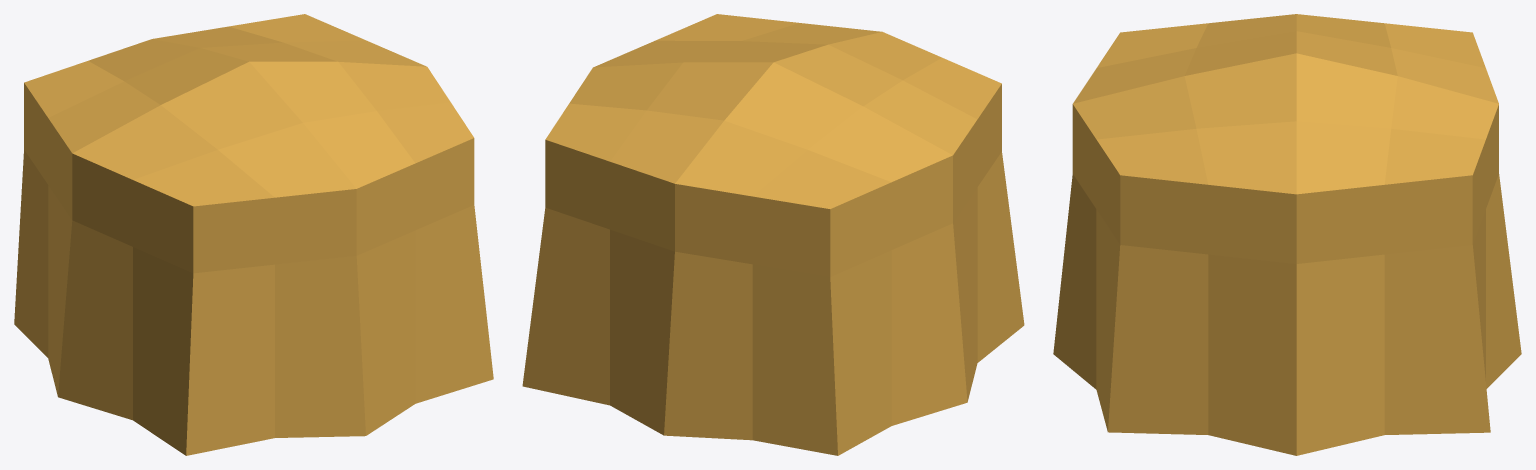
The model's file is roccia_214.fbx.
The picture shows the model from 3 angles, left to right: view 1: azimuth 30°, elevation 25°; view 2: azimuth 150°, elevation 25°; view 3: azimuth 270°, elevation 25°; orthographic projection. The views are drawn at different scales.
Visible parts, largest first — view 1: roccia_214; view 2: roccia_214; view 3: roccia_214.
Part boxes in pixels (x1=…): roccia_214: x1=14, y1=14, x2=493, y2=455; roccia_214: x1=522, y1=14, x2=1024, y2=455; roccia_214: x1=1053, y1=14, x2=1521, y2=455.
Size of the model in its own units: 37.67 by 26.56 by 37.48.
